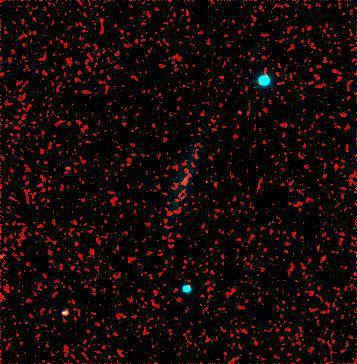star: (206, 59, 236, 89)
